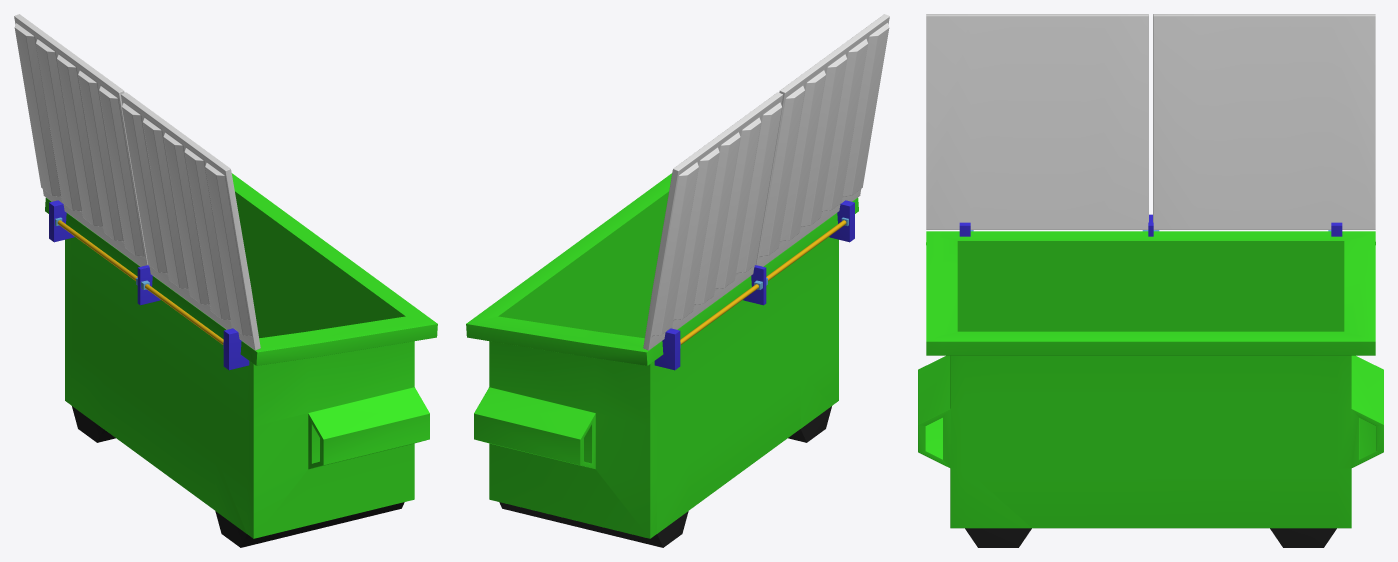
The model's file is Dumpster_LidOpened.fbx.
3 renders of one model, left to right at view 1: azimuth 30°, elevation 25°; view 2: azimuth 150°, elevation 25°; view 3: azimuth 270°, elevation 25°, orthographic. The views are drawn at different scales.
Visible parts, largest first — view 1: Dumpster; view 2: Dumpster; view 3: Dumpster.
Boxes of the visible parts, box(x1,y1,x2,y2) form: Dumpster: box(14, 14, 437, 547); Dumpster: box(466, 14, 889, 547); Dumpster: box(918, 14, 1383, 547).
Bounding box in the file's own units: 269 × 481 × 471.
